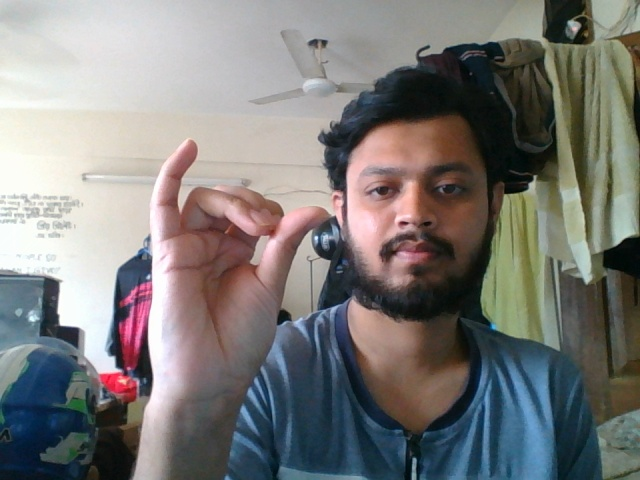oi: (137, 128, 337, 435)
